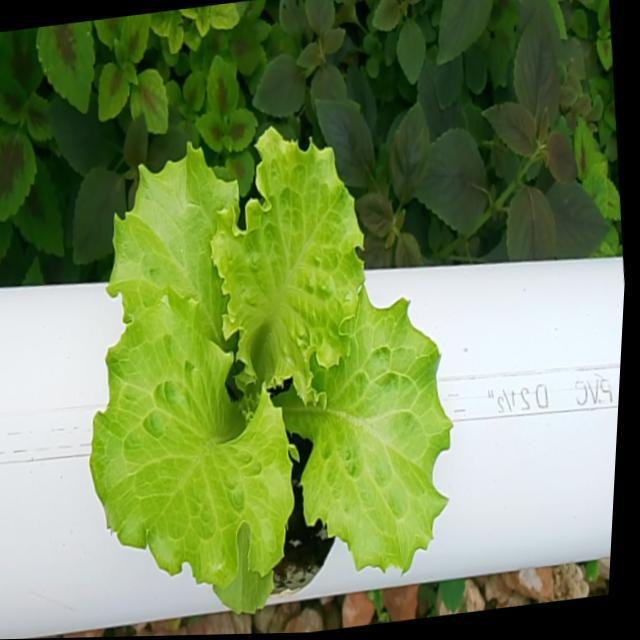Baby: (91, 120, 450, 602)
